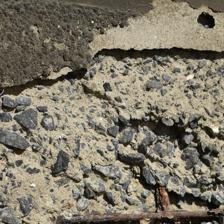Crack: (2, 22, 222, 73)
